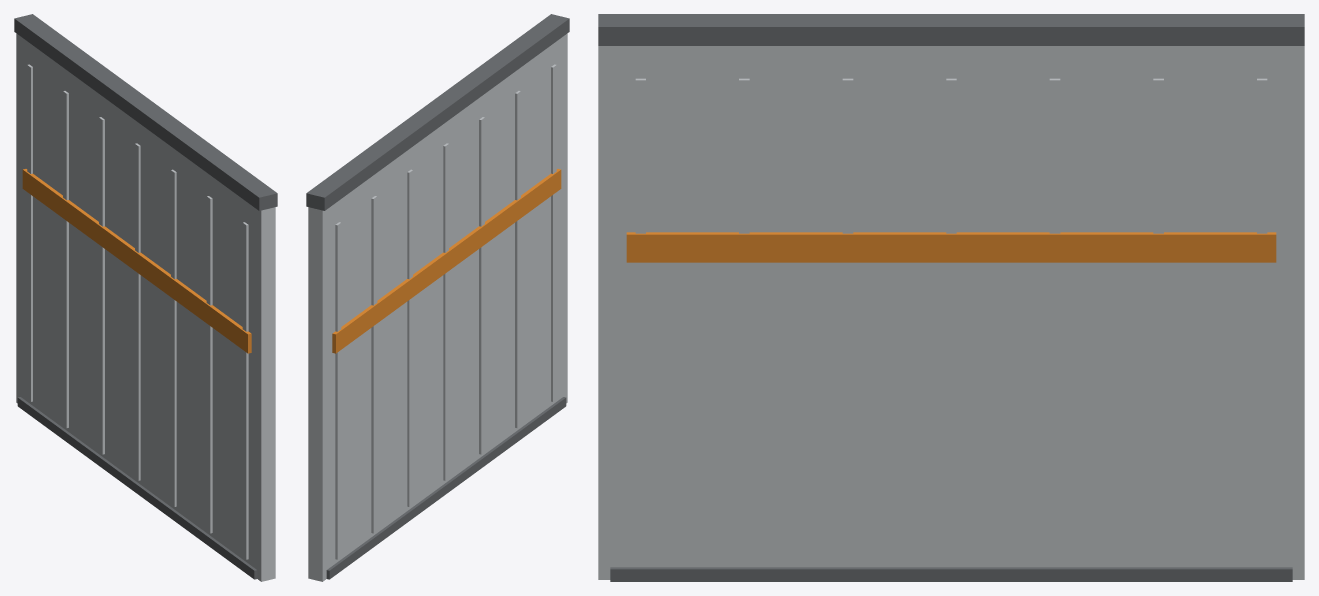
The model's file is self-storage-facility-and-loading-bay-self-storage-fac-30439443__34700.glb.
3 views of the same model, side by side, from view 1: azimuth 30°, elevation 25°; view 2: azimuth 150°, elevation 25°; view 3: azimuth 270°, elevation 25° (orthographic). The views are drawn at different scales.
Parts seen in each view (by area): view 1: self-storage-facility-and-loading-bay-unit-partition-wall; view 2: self-storage-facility-and-loading-bay-unit-partition-wall; view 3: self-storage-facility-and-loading-bay-unit-partition-wall.
Part boxes in pixels (left/top/right/bottom): self-storage-facility-and-loading-bay-unit-partition-wall: left=14, top=14, right=277, bottom=581; self-storage-facility-and-loading-bay-unit-partition-wall: left=306, top=14, right=569, bottom=581; self-storage-facility-and-loading-bay-unit-partition-wall: left=598, top=14, right=1304, bottom=581.
Bounding box in the file's own units: 0.1499 × 2.6 × 3.
